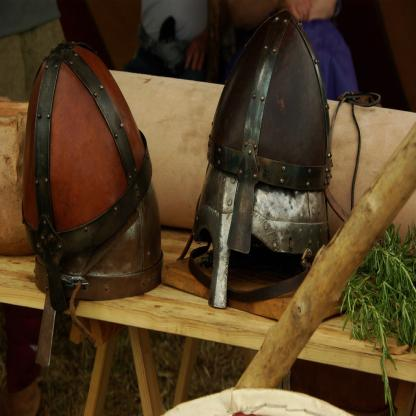Helmet: (19, 40, 159, 319), (186, 34, 342, 274)
